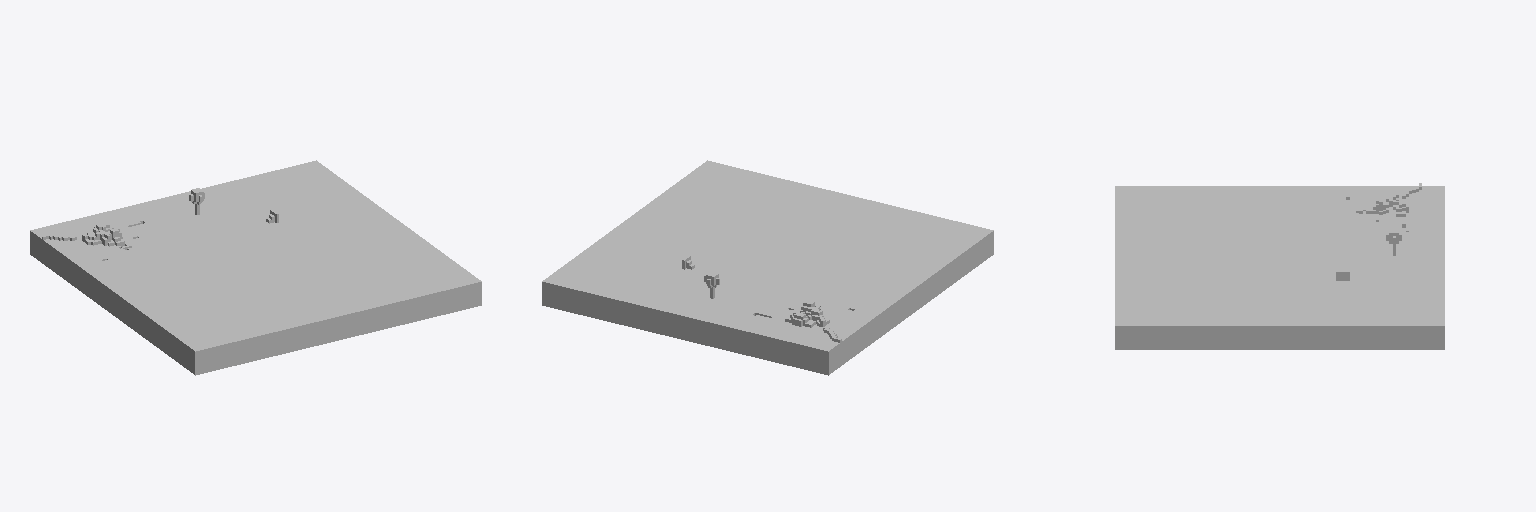
Rendered from ALAN.obj.
3 views of the same model, side by side, from view 1: azimuth 30°, elevation 25°; view 2: azimuth 150°, elevation 25°; view 3: azimuth 270°, elevation 25° (orthographic).
Parts seen in each view (by area): view 1: object 1; view 2: object 1; view 3: object 1.
Part boxes in pixels (x1,y1,x2,y2): object 1: (30,160,481,375); object 1: (542,160,993,375); object 1: (1115,183,1444,349).
Bounding box in the file's own units: 10 × 1.6 × 10.